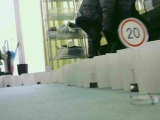speed_20: (114, 16, 148, 50)
